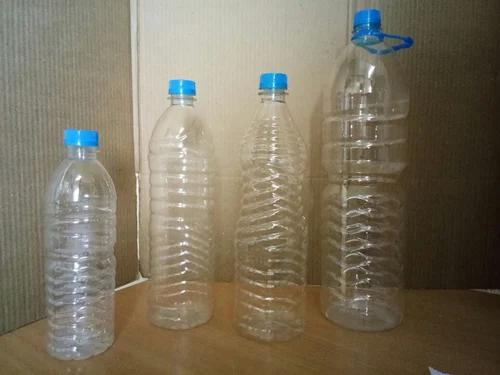plastic: (322, 8, 412, 330), (237, 72, 304, 339), (43, 128, 115, 358), (149, 79, 213, 328)
